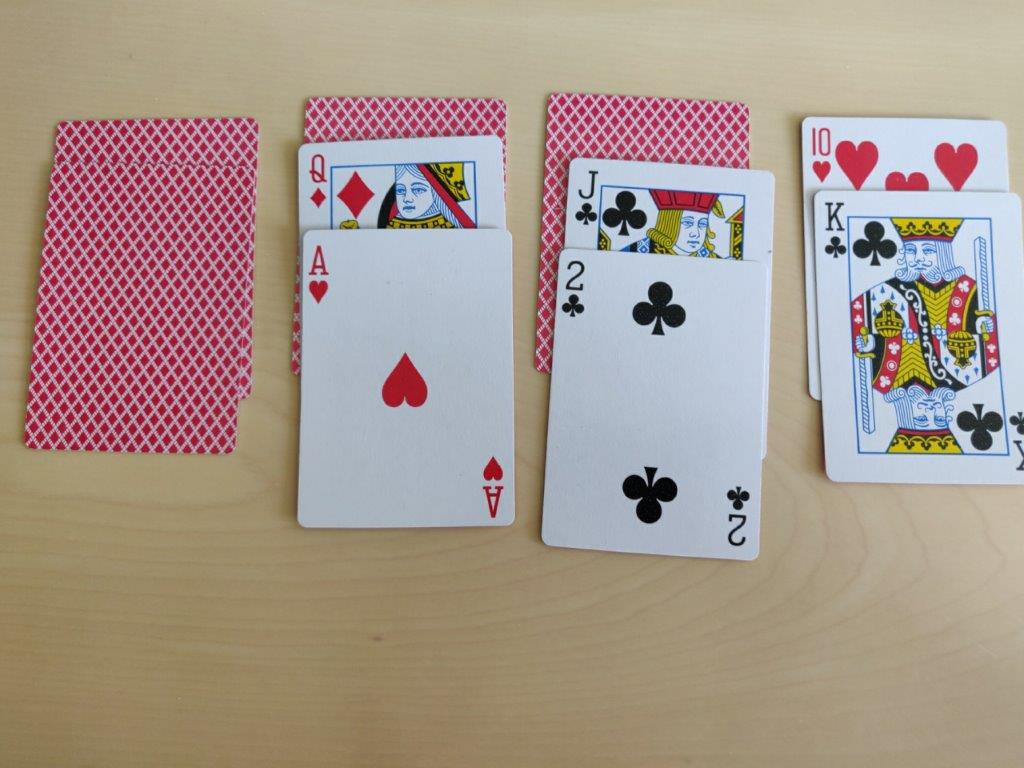10H: (808, 122, 835, 184)
2C: (561, 254, 587, 322)
AH: (307, 240, 332, 308)
BACK: (32, 156, 249, 454), (43, 110, 266, 180), (545, 97, 765, 166), (300, 95, 520, 138)
JC: (572, 164, 601, 234)
KC: (816, 196, 849, 263)
QD: (303, 150, 335, 212)
